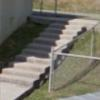stairs: (0, 17, 94, 93)
